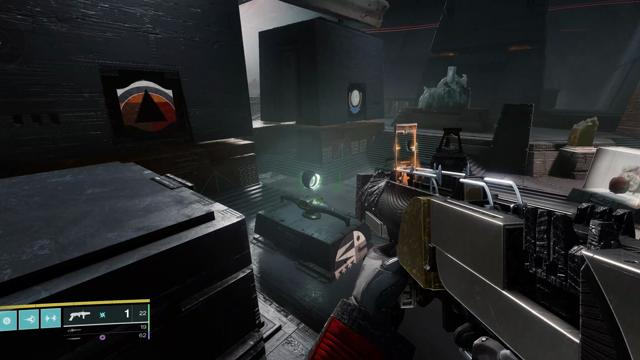pyramid: (116, 80, 176, 132)
traveler: (349, 88, 363, 114)
